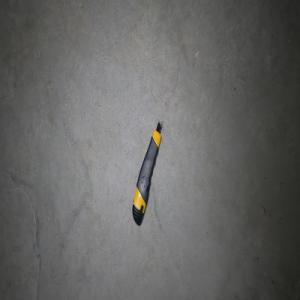Cutter: (131, 121, 162, 226)
